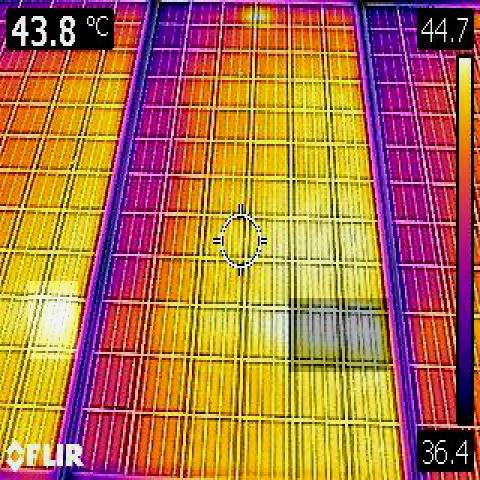fault: (289, 298, 389, 372), (28, 282, 78, 360), (238, 3, 272, 26)
